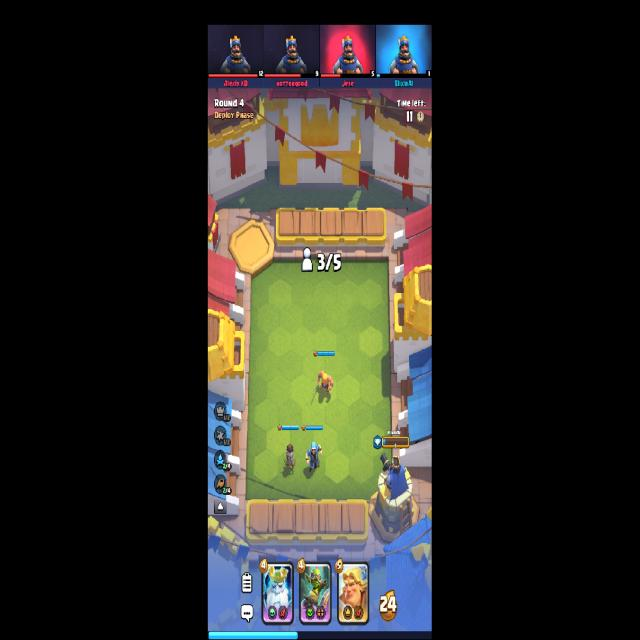barbarian: (311, 371, 334, 402)
card_goblin_machine: (298, 561, 332, 625)
card_golden_knight: (337, 560, 369, 624)
card_royal_ghost: (261, 560, 294, 626)
princess: (282, 445, 298, 473)
wizard: (306, 442, 322, 472)
